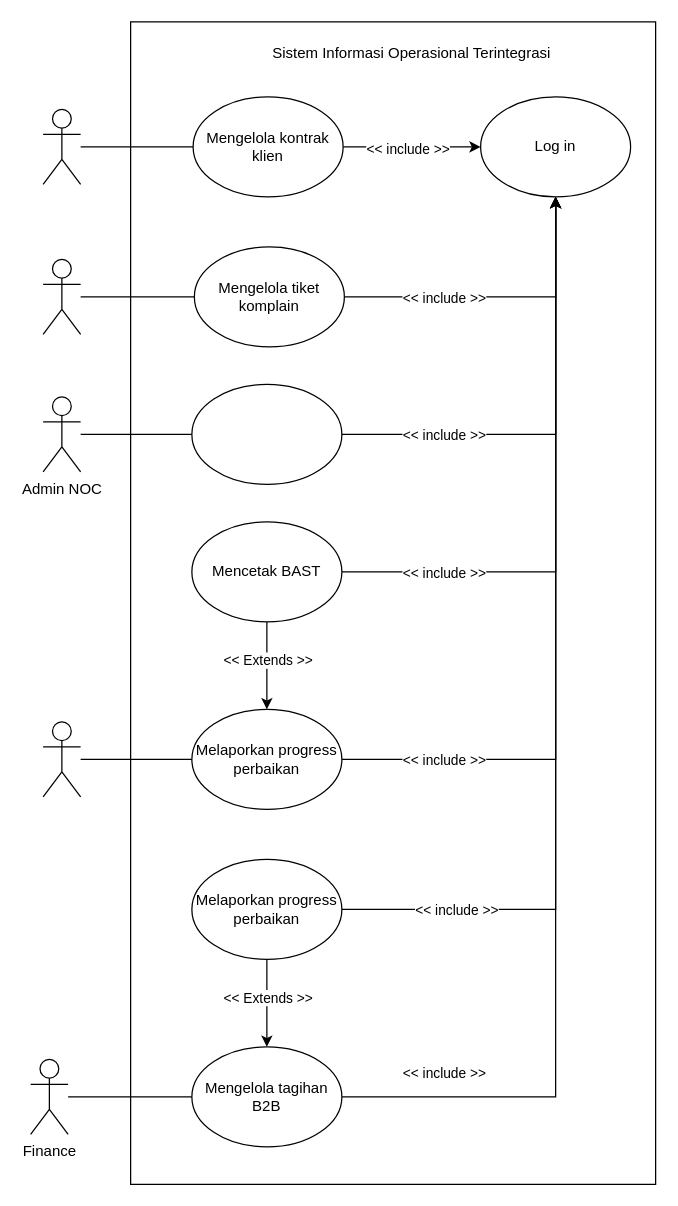
Image size: 678x1206. Some labels were removed from this diagram. Here are the shapes that lost their labels. From the top down, the centre of each, then its label:
point 61,146: sales
point 61,296: cs
point 266,433: Mengelola penugasan
point 61,759: Teknisi
